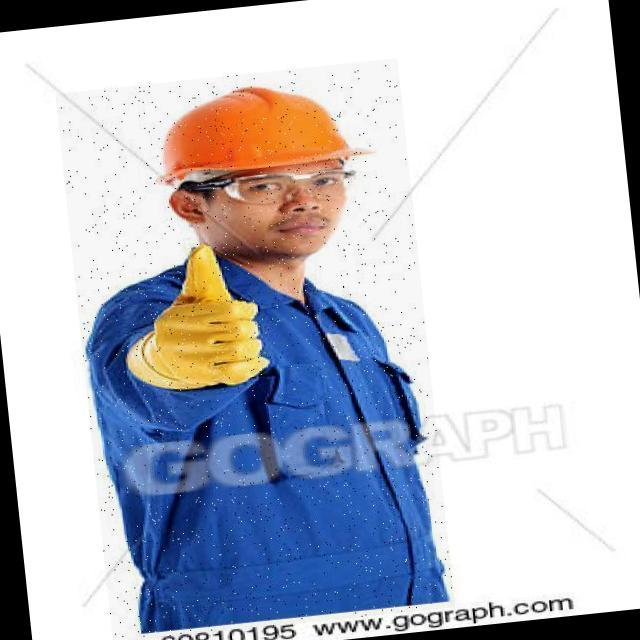Gloves: (109, 230, 278, 402)
Helmet: (138, 66, 385, 196)
Human: (55, 57, 455, 640)
